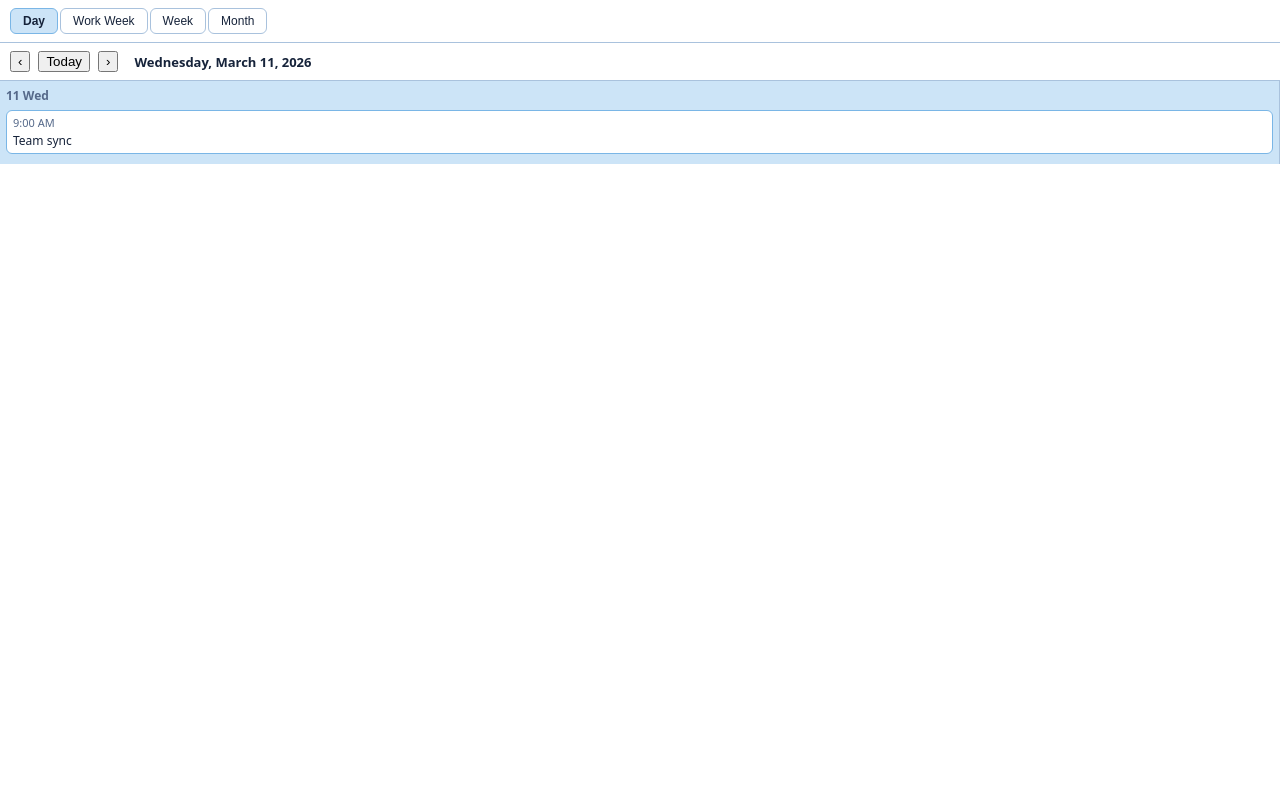
Test: CalendarView › editing and deleting an existing item › clicking an existing item opens a read-only view of its current fields, not an editable form
The width and height of the screenshot is (1280, 800).
Click the text "Team sync" at (42, 140), box 13,132 -> 72,149
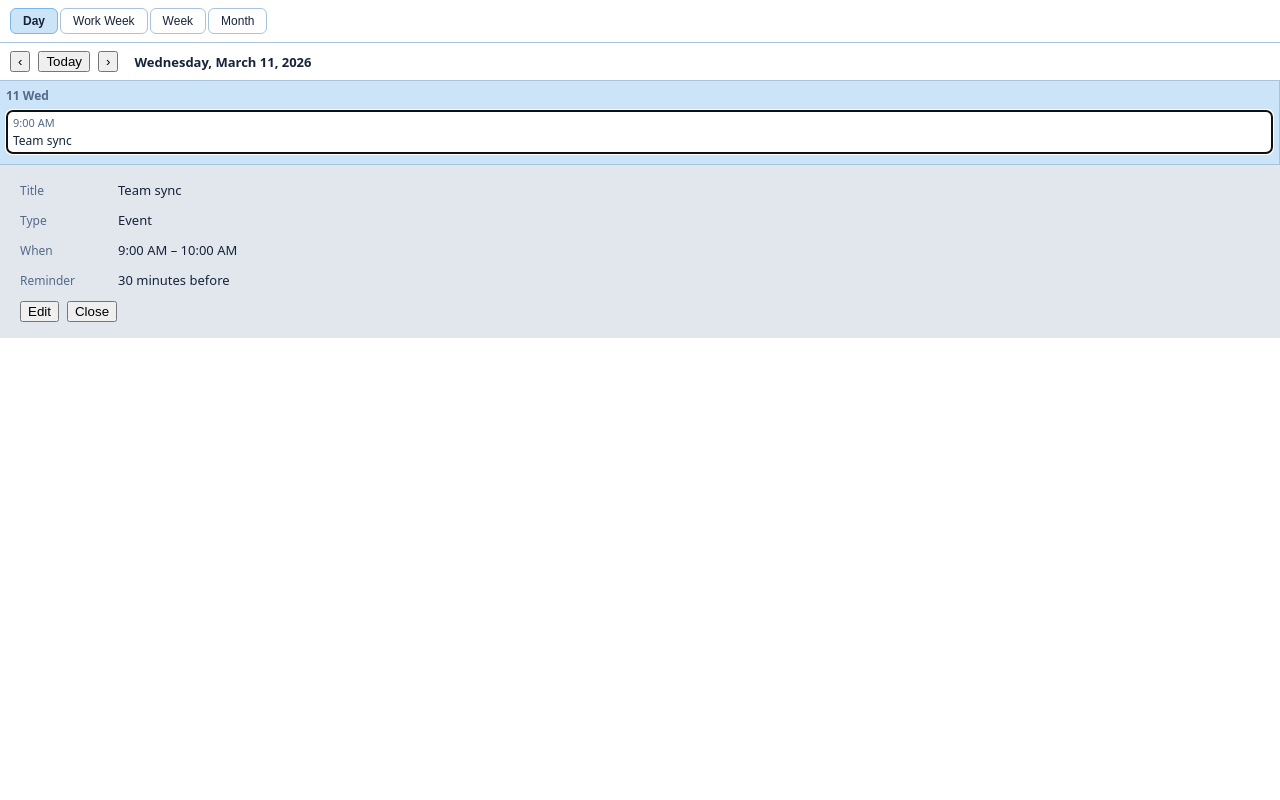
Result: the text "Team sync" next to "Title" is shown at 118,181 -> 182,199
Result: the text "Event" is shown at 118,211 -> 152,229
Result: the text "30 minutes before" is shown at 118,271 -> 230,289
